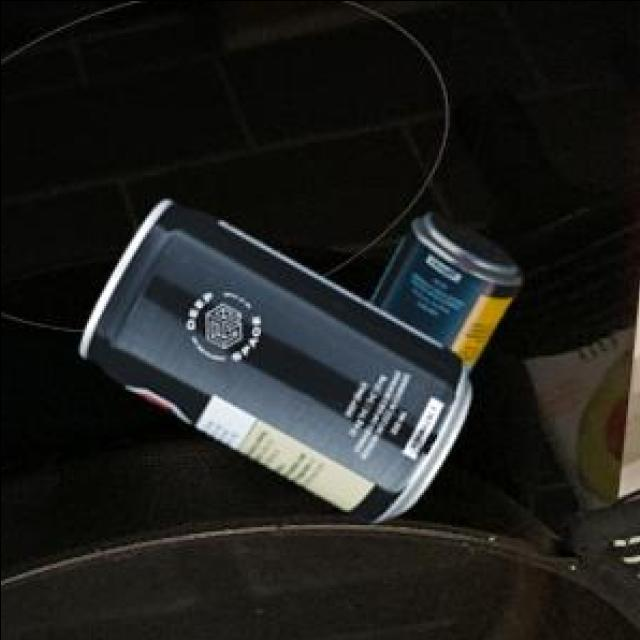logam: (83, 201, 474, 525), (373, 216, 523, 377)
